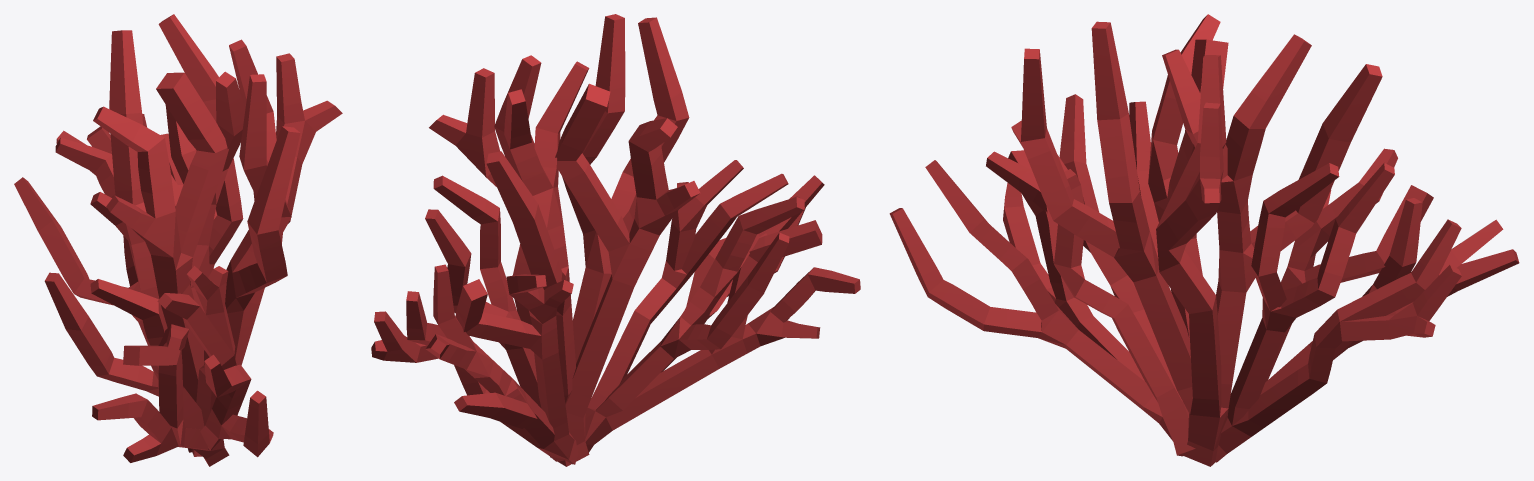
The model's file is coral_large.glb.
3 renders of one model, left to right at view 1: azimuth 30°, elevation 25°; view 2: azimuth 150°, elevation 25°; view 3: azimuth 270°, elevation 25°, orthographic. The views are drawn at different scales.
Visible parts, largest first — view 1: Cube.117; view 2: Cube.117; view 3: Cube.117.
Part boxes in pixels (box(x1,y1,x2,y2)): Cube.117: box(14, 14, 342, 466); Cube.117: box(371, 14, 860, 466); Cube.117: box(889, 14, 1519, 466).
Bounding box in the file's own units: 1.07 × 1.26 × 1.64.
1 material, 1 textured.
